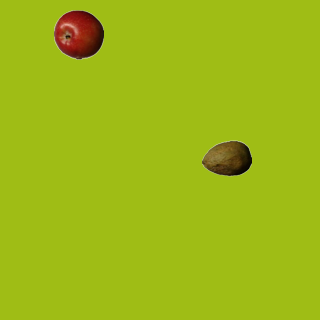Apple Braeburn: (53, 9, 103, 59)
Papaya: (201, 133, 251, 183)
